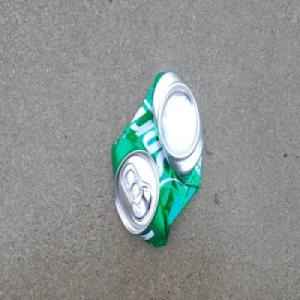SodaCan: (109, 71, 204, 252)
